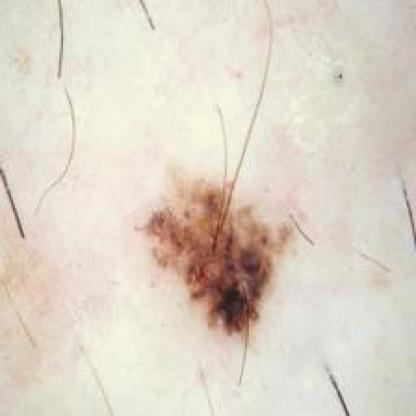malignant: (132, 167, 310, 344)
